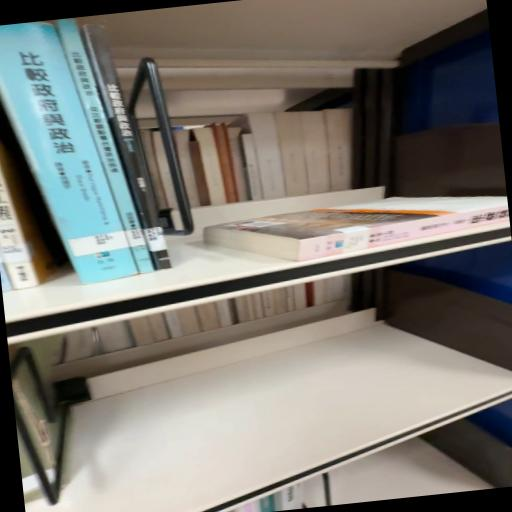flat: (204, 198, 510, 262)
